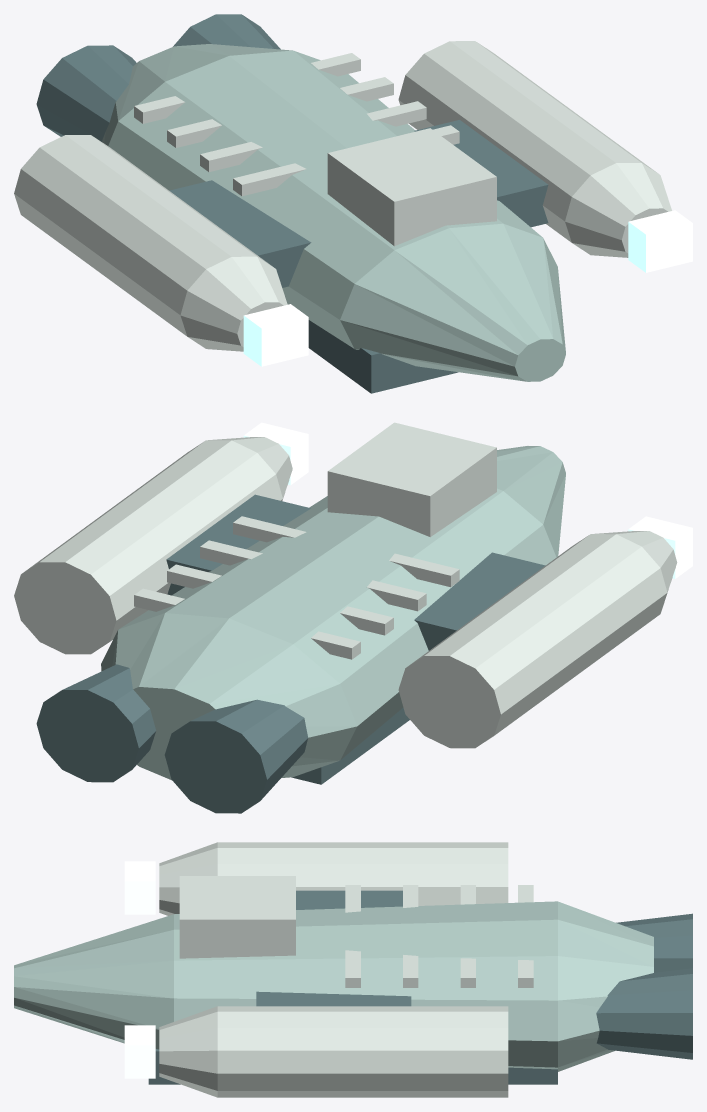
3 views of the same model, one above another, from view 1: azimuth 30°, elevation 25°; view 2: azimuth 150°, elevation 25°; view 3: azimuth 270°, elevation 25° (orthographic). The views are drawn at different scales.
Size of the model in its own units: 5.47 by 1.92 by 7.56.
